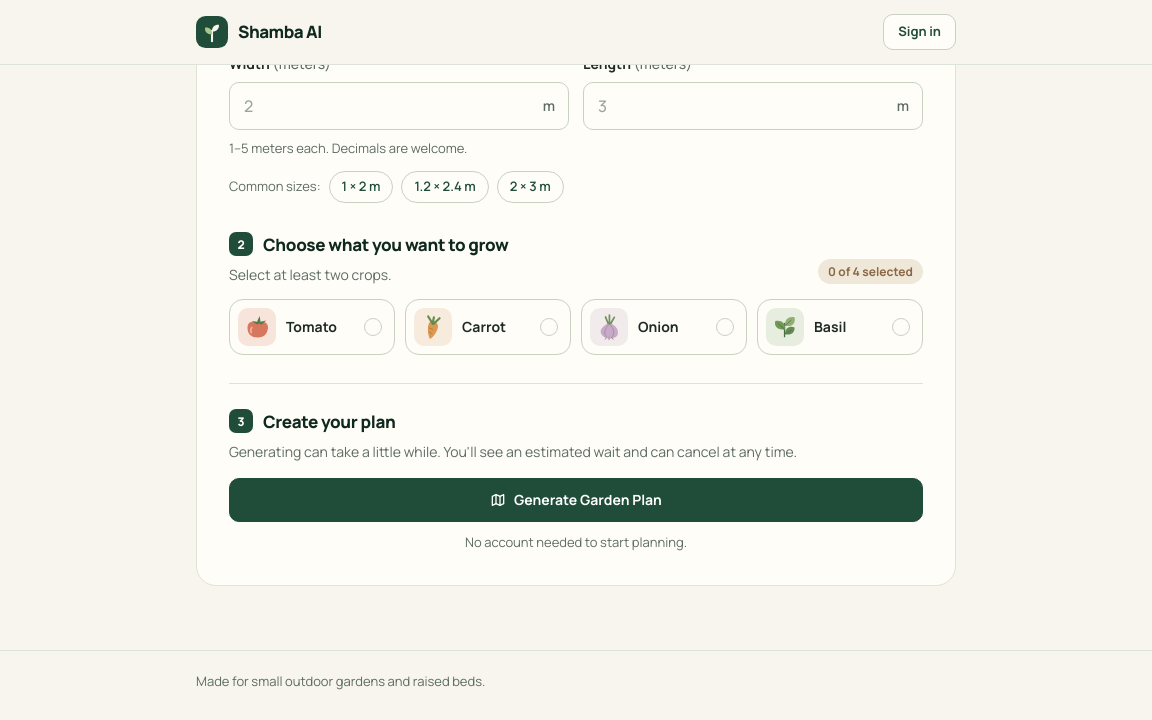
Test: visitor planning experience › shows inline errors instead of generating an incomplete plan
This screenshot has width=1152, height=720.
(page scrolled)
Click the button "Generate Garden Plan": (576, 500) [229, 478, 923, 522]
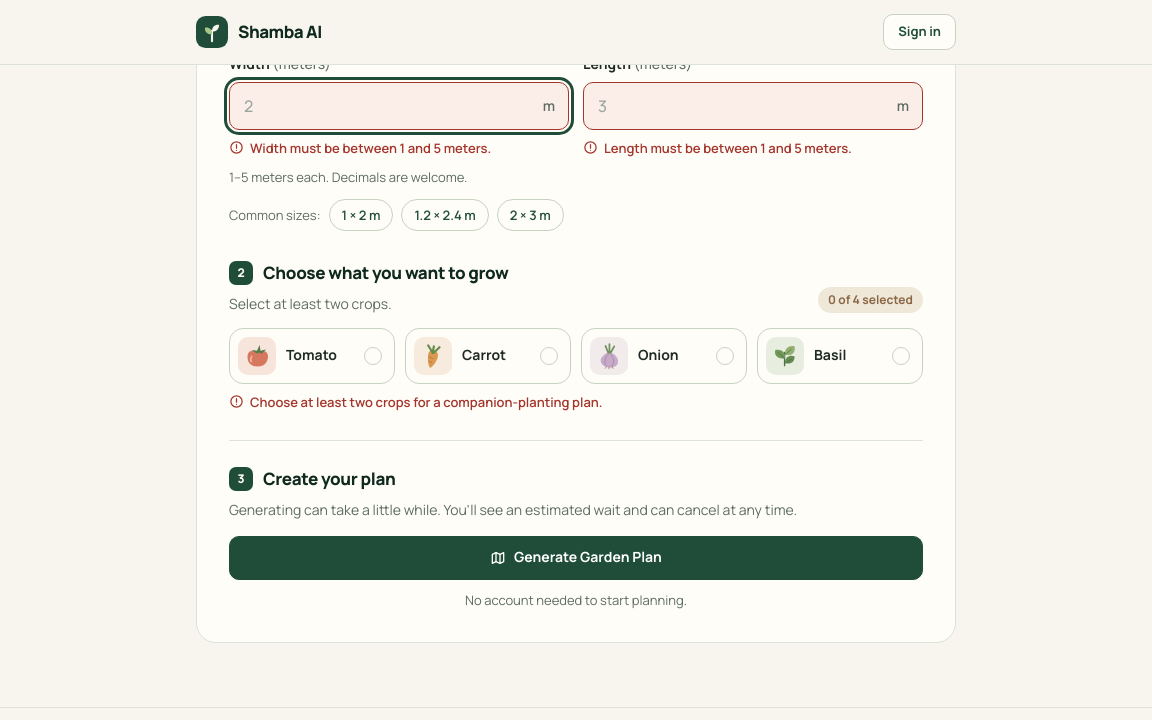
Expected: the text "Width must be between 1 and 5 meters." is shown, [229, 139, 491, 157]
Expected: the text "Choose at least two crops for a companion-planting plan." is shown, [229, 392, 603, 410]
